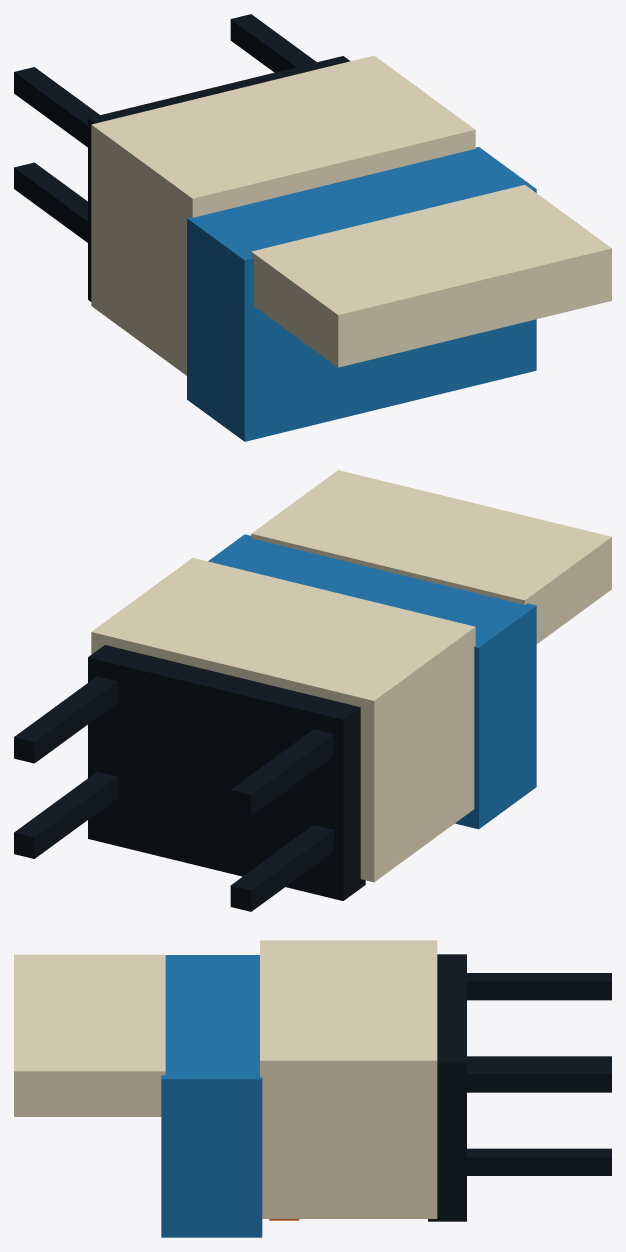
File: pinball_machine.obj
3 renders of one model, top to bottom at view 1: azimuth 30°, elevation 25°; view 2: azimuth 150°, elevation 25°; view 3: azimuth 270°, elevation 25°, orthographic. The views are drawn at different scales.
Parts seen in each view (by area): view 1: cabinet_base, playfield_frame, marquee, leg_bl, leg_fl, toe_kick, leg_br; view 2: cabinet_base, toe_kick, marquee, playfield_frame, leg_bl, leg_fl, leg_br, leg_fr; view 3: cabinet_base, playfield_frame, marquee, toe_kick, leg_fr, leg_bl, leg_br, leg_fl.
Boxes of the visible parts, x1=… form: cabinet_base: x1=91, y1=55, x2=475, y2=375; playfield_frame: x1=187, y1=147, x2=536, y2=441; marquee: x1=251, y1=185, x2=611, y2=367; leg_bl: x1=14, y1=67, x2=99, y2=147; leg_fl: x1=14, y1=162, x2=87, y2=242; toe_kick: x1=88, y1=56, x2=350, y2=301; leg_br: x1=230, y1=14, x2=316, y2=72; cabinet_base: x1=91, y1=558, x2=475, y2=882; toe_kick: x1=88, y1=645, x2=365, y2=900; marquee: x1=251, y1=470, x2=611, y2=643; playfield_frame: x1=208, y1=534, x2=536, y2=829; leg_bl: x1=230, y1=729, x2=334, y2=816; leg_fl: x1=230, y1=825, x2=334, y2=911; leg_br: x1=14, y1=676, x2=117, y2=763; leg_fr: x1=14, y1=772, x2=117, y2=858; cabinet_base: x1=260, y1=940, x2=437, y2=1218; playfield_frame: x1=161, y1=955, x2=262, y2=1237; marquee: x1=14, y1=954, x2=165, y2=1116; toe_kick: x1=428, y1=954, x2=466, y2=1221; leg_fr: x1=467, y1=1148, x2=611, y2=1175; leg_bl: x1=467, y1=973, x2=611, y2=1000; leg_br: x1=467, y1=1065, x2=611, y2=1092; leg_fl: x1=467, y1=1056, x2=611, y2=1065.
Size of the model in its own units: 1.28 by 0.87 by 2.6.
